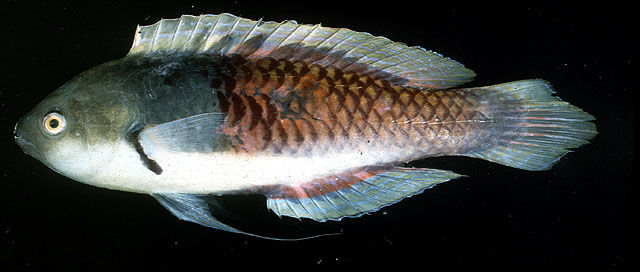fish: (16, 12, 599, 242)
